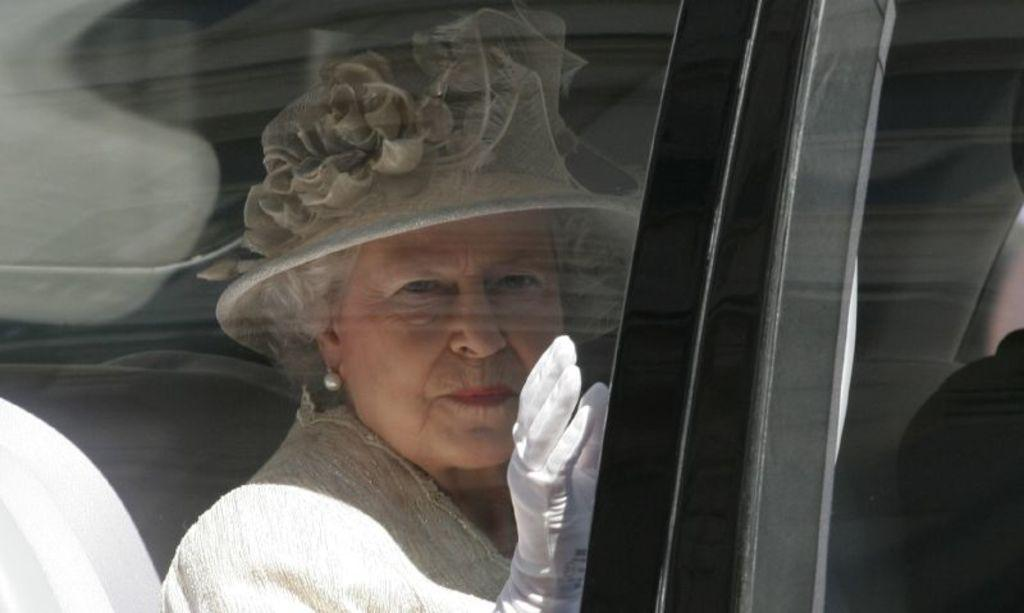Hat: (216, 9, 641, 358)
